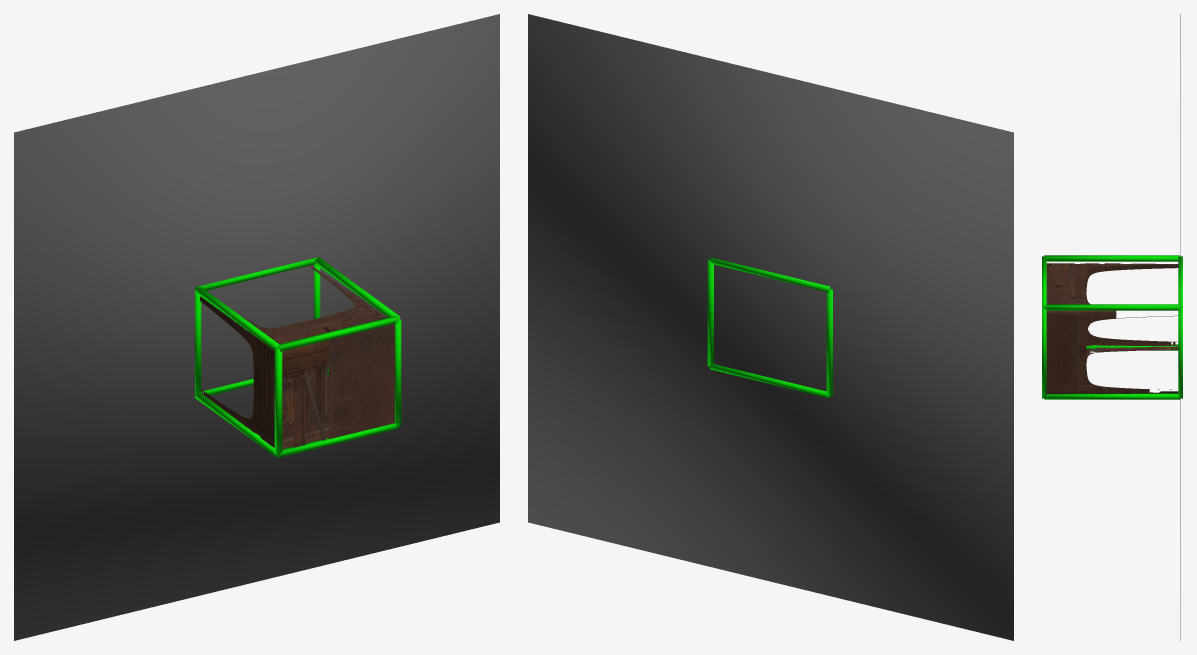
The picture shows the model from 3 angles, left to right: view 1: azimuth 30°, elevation 25°; view 2: azimuth 150°, elevation 25°; view 3: azimuth 270°, elevation 25°; orthographic projection. The views are drawn at different scales.
Size of the model in its own units: 2 by 2 by 0.5974.
